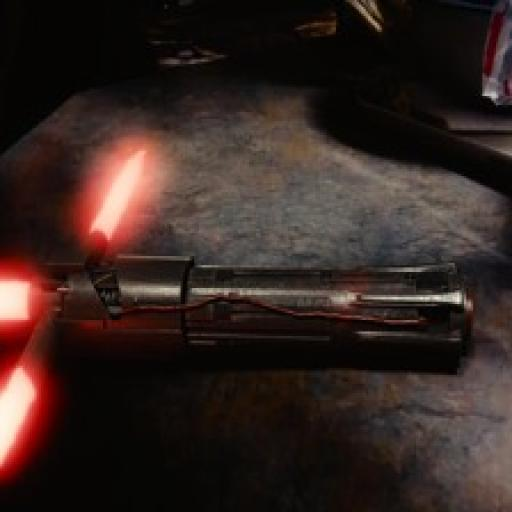sith saber: (0, 133, 477, 478)
